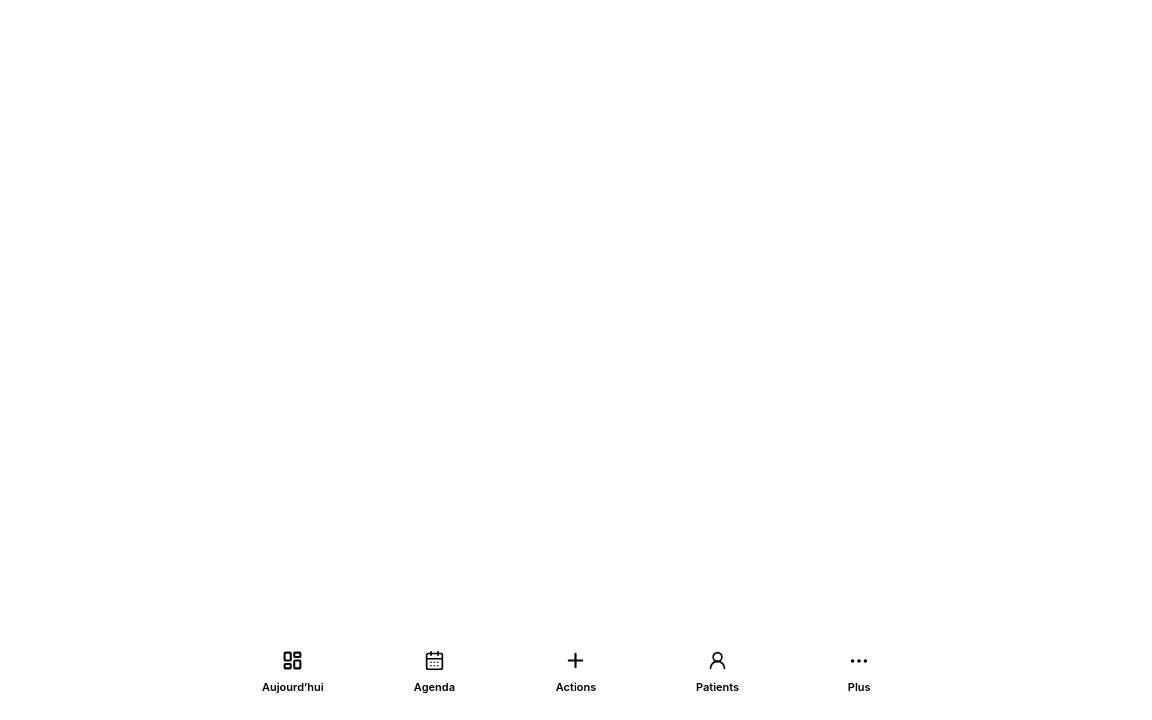
Test: Digital Crown Pocket canonical navigation › restores merged Pocket V1 secondary destinations for practitioners
The width and height of the screenshot is (1152, 720).
Click the button "Plus": coordinates (859, 670) [788,643,930,697]
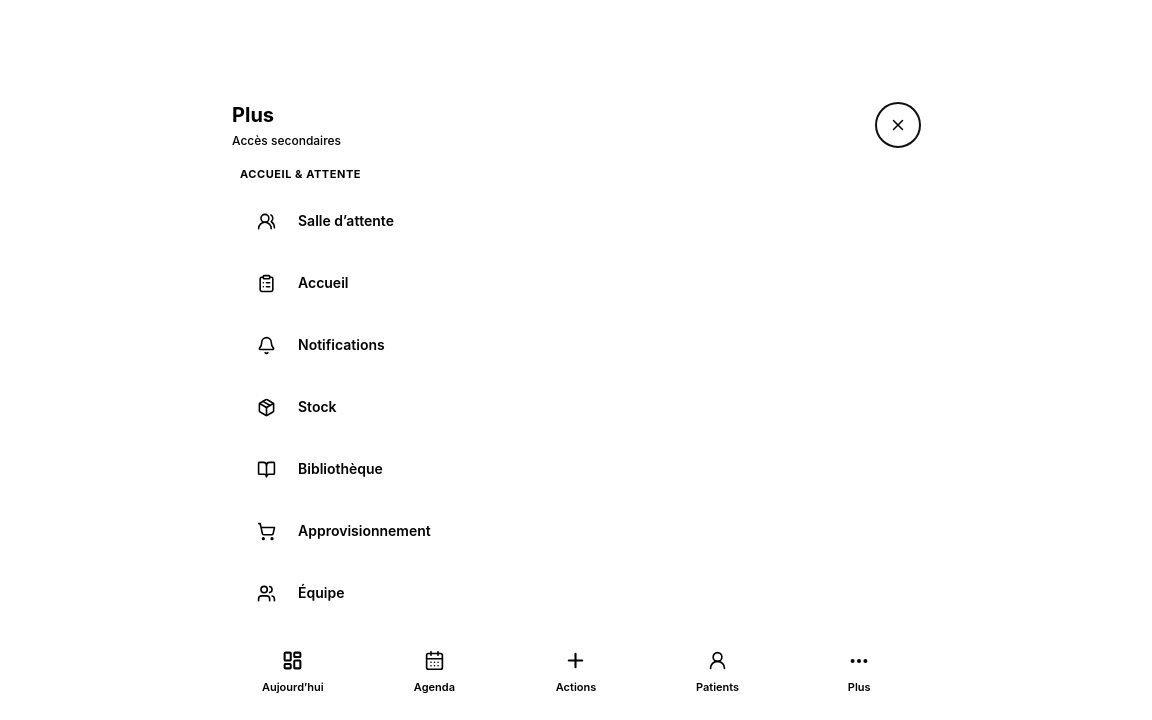
Result: the text "Salle d’attente" is shown at [298,212,394,230]
Result: the text "Notifications" is shown at [298,336,385,354]
Result: the text "Accueil" is shown at [298,274,348,292]
Click the button "Salle d’attente": coordinates (346, 221) [232,194,918,248]
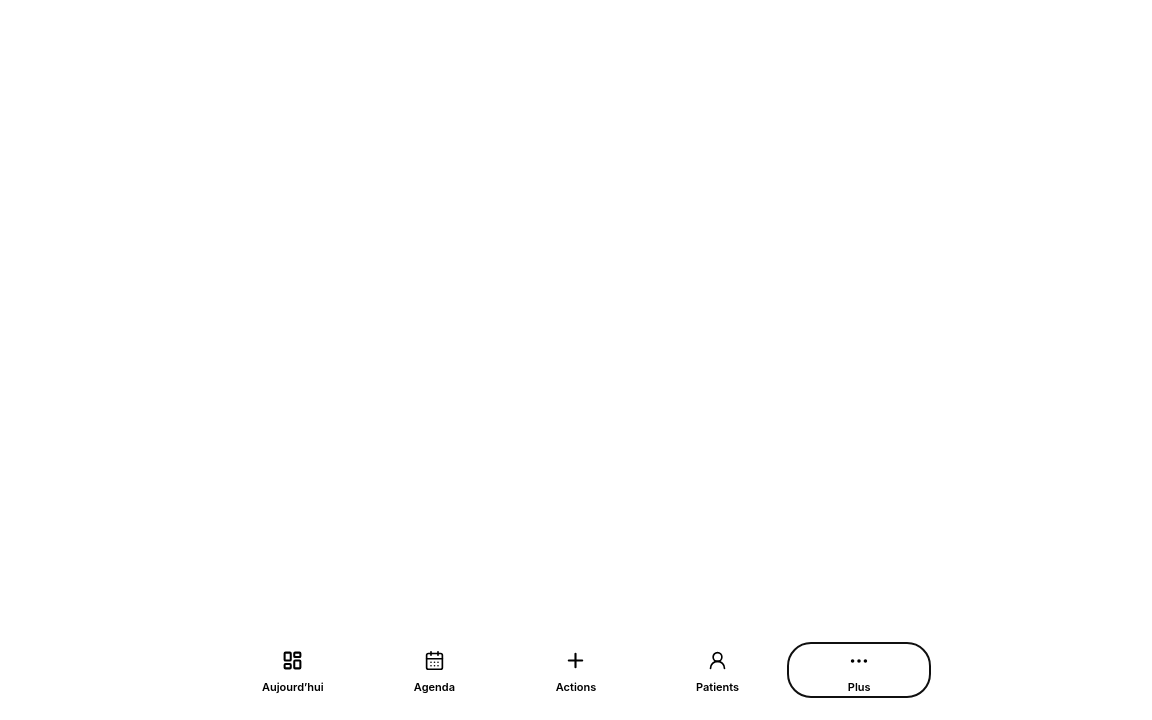
Result: the text "Accès secondaires" is gone
